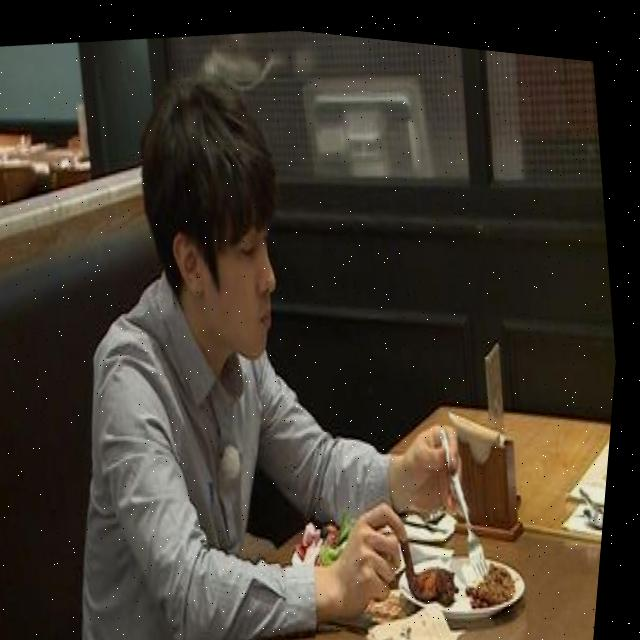eating-person: (0, 2, 563, 640)
